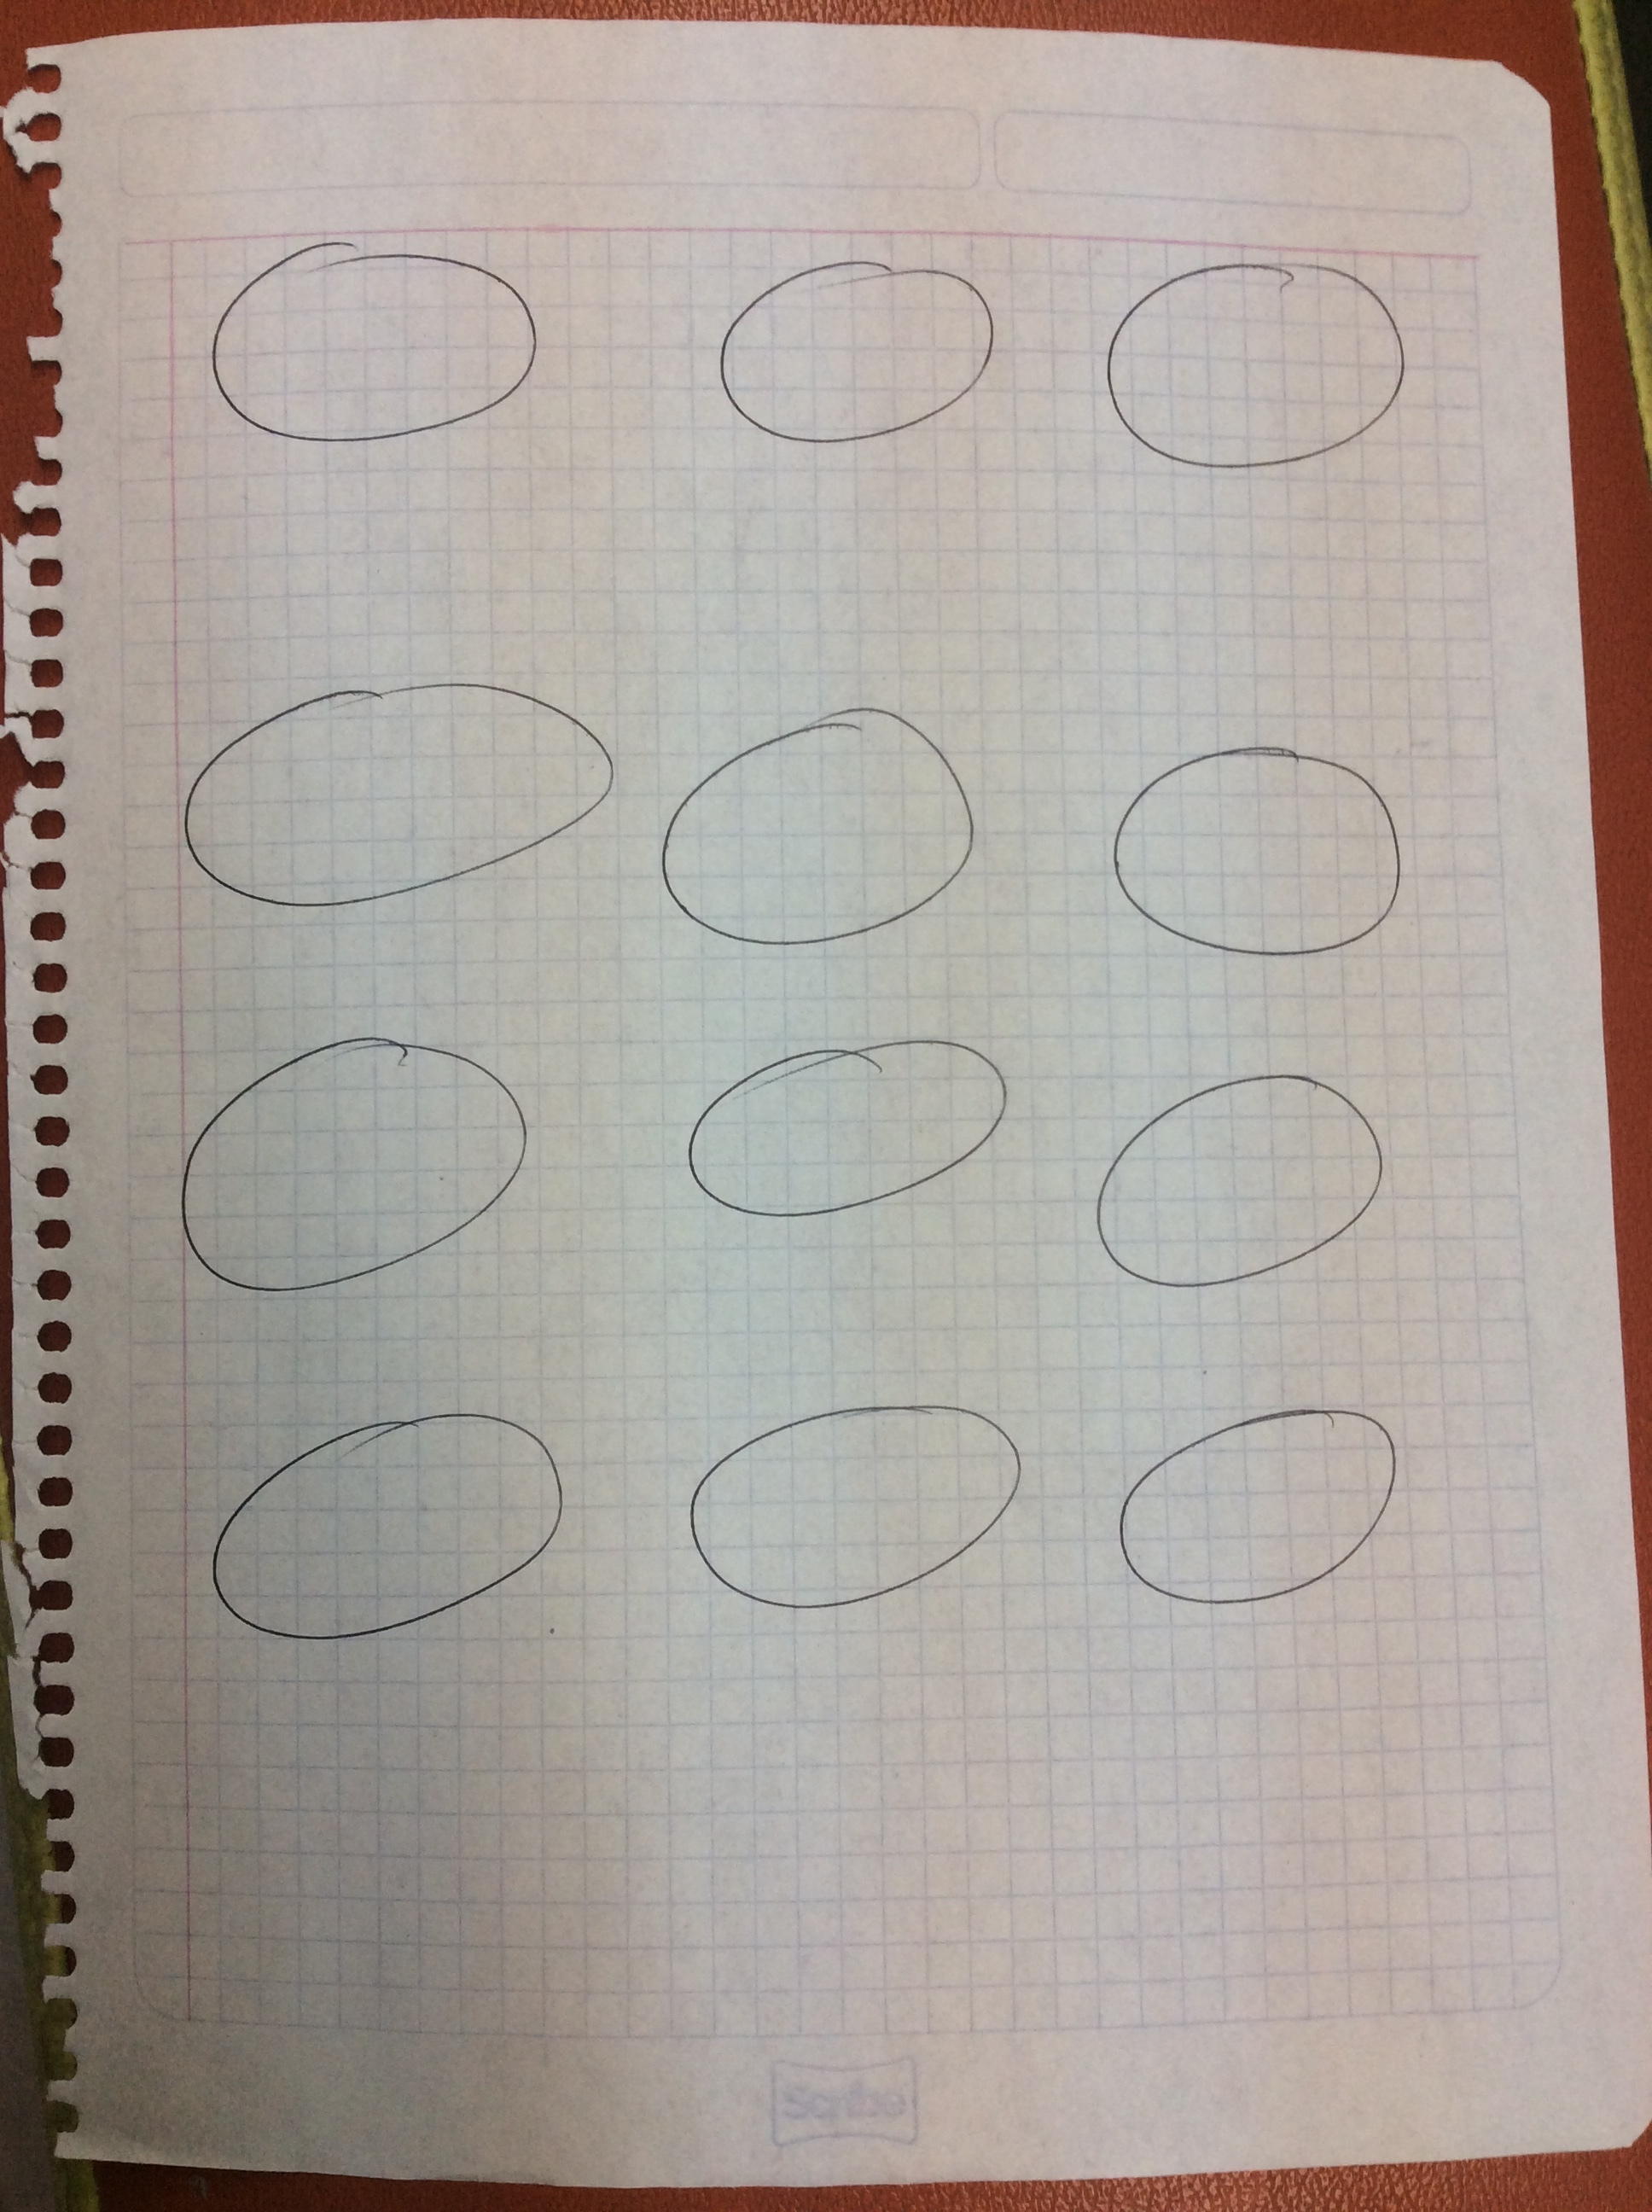start_end: (146, 1386, 585, 1690), (132, 1013, 559, 1317), (142, 677, 630, 928), (637, 659, 1005, 970), (647, 1372, 1036, 1638), (168, 208, 555, 468), (1081, 713, 1442, 977), (1086, 1365, 1418, 1652), (1071, 1048, 1418, 1312), (1074, 239, 1425, 498), (640, 1010, 1022, 1242), (687, 246, 1015, 472)
